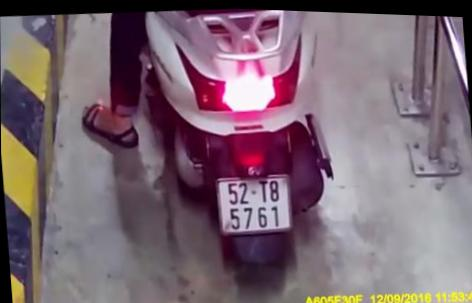LP: (212, 166, 296, 237)
